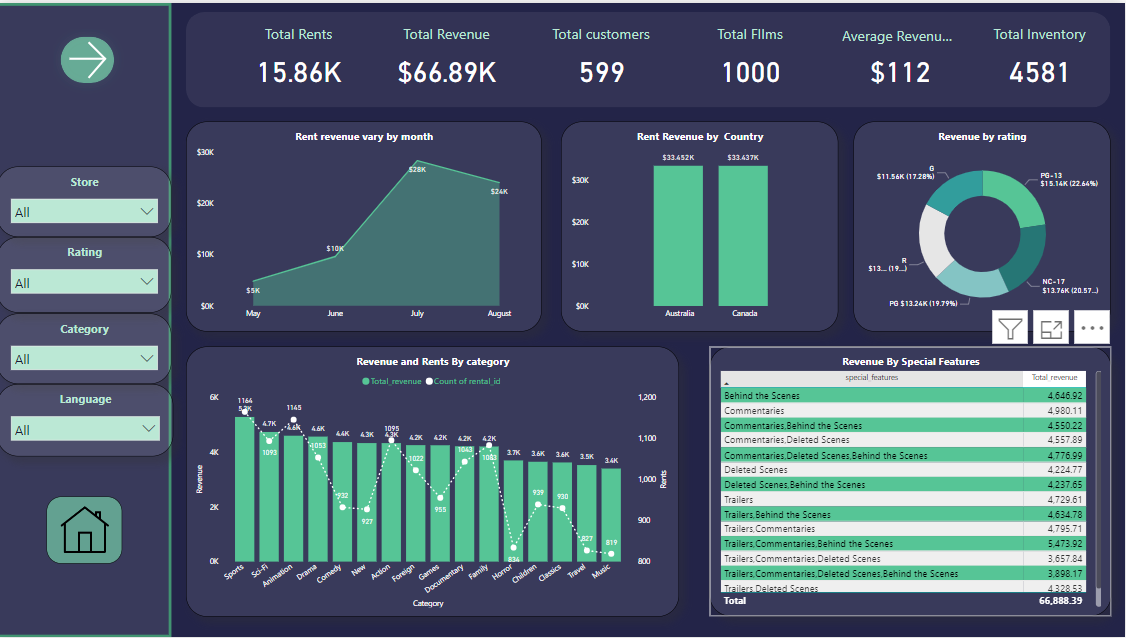

This screenshot's page, from the dashboard's own definition file:
{"tool":"powerbi","page":{"name":"REVENUE ANALYSIS","canvas":[1600,900],"ordinal":1},"visuals":[{"type":"shape","box":[0,0,247.5,900],"z":0},{"type":"areaChart","title":"Rent revenue vary by month","fields":{"Category":["sakila payment.payment_date.Variation.Date Hierarchy.Month"],"Y":["Sum(sakila payment.amount)"]},"box":[268.9,168.9,504.4,297.8],"z":1000},{"type":"shape","box":[268.9,13.3,1311.1,135.6],"z":2000},{"type":"card","title":"Total FIlms","fields":{"Values":["CountNonNull(sakila film.film_id)"]},"box":[966.7,28.9,204.4,100],"z":3000},{"type":"card","title":"Total Rents","fields":{"Values":["Count(sakila rental.rental_id)"]},"box":[326.7,28.9,200,100],"z":4000},{"type":"card","title":"Total Revenue","fields":{"Values":["Sum(sakila payment.amount)"]},"box":[526.7,28.9,220,100],"z":5000},{"type":"card","title":"Total customers","fields":{"Values":["CountNonNull(sakila customer.customer_id)"]},"box":[746.7,28.9,220,100],"z":6000},{"type":"slicer","title":"Store","fields":{"Values":["sakila store.Store Country"]},"box":[0,232.5,247.5,100],"z":7000},{"type":"clusteredColumnChart","title":"Rent Revenue by  Country","fields":{"Y":["Sum(sakila payment.amount)"],"Category":["sakila store.Store Country"]},"box":[800.7,168.9,393.4,298],"z":8000},{"type":"donutChart","title":"Revenue by rating","fields":{"Category":["sakila film.rating"],"Y":["Sum(sakila payment.amount)"]},"box":[1215.6,168.9,364.4,297.8],"z":9000},{"type":"slicer","title":"Rating","fields":{"Values":["sakila film.rating"]},"box":[0,332.5,247.5,107.5],"z":10000},{"type":"slicer","title":"Category","fields":{"Values":["sakila film.Category_name"]},"box":[0,440,247.5,100],"z":11000},{"type":"card","title":"Total Inventory","fields":{"Values":["Count(sakila inventory.inventory_id)"]},"box":[1375.6,28.9,204.4,100],"z":12000},{"type":"lineStackedColumnComboChart","title":"Revenue and Rents By category","fields":{"Category":["sakila film.Category_name"],"Y":["sakila payment.Total_revenue"],"Y2":["CountNonNull(sakila rental.rental_id)"]},"box":[268.2,486.8,699.3,383.4],"z":13000},{"type":"slicer","title":"Language","fields":{"Values":["sakila film.Language"]},"box":[0,540,250,102.5],"z":14000},{"type":"tableEx","title":"Revenue By Special Features","fields":{"Values":["sakila film.special_features","sakila payment.Total_revenue"]},"box":[1010,487.5,570,382.5],"z":15000},{"type":"actionButton","box":[75,32.5,107.5,97.5],"z":16000},{"type":"image","box":[70,700,107.5,95],"z":17000},{"type":"card","title":"Average Revenue Per Customer","fields":{"Values":["sakila payment.Avg_revenue_per_customer"]},"box":[1194,31.8,174.8,97.4],"z":18000}]}

Visuals, with their boxes in screenshot pixels (x1, y1, x2, y2), scaled from the page's 1600x900 canvas onto the 1126x638 screenshot:
shape: bbox=(0, 0, 174, 637)
"Rent revenue vary by month" areaChart: bbox=(189, 120, 544, 331)
shape: bbox=(189, 9, 1112, 106)
"Total FIlms" card: bbox=(680, 20, 824, 91)
"Total Rents" card: bbox=(230, 20, 371, 91)
"Total Revenue" card: bbox=(371, 20, 525, 91)
"Total customers" card: bbox=(525, 20, 680, 91)
"Store" slicer: bbox=(0, 165, 174, 236)
"Rent Revenue by  Country" clusteredColumnChart: bbox=(563, 120, 840, 331)
"Revenue by rating" donutChart: bbox=(855, 120, 1112, 331)
"Rating" slicer: bbox=(0, 236, 174, 312)
"Category" slicer: bbox=(0, 312, 174, 383)
"Total Inventory" card: bbox=(968, 20, 1112, 91)
"Revenue and Rents By category" lineStackedColumnComboChart: bbox=(189, 345, 681, 617)
"Language" slicer: bbox=(0, 383, 176, 455)
"Revenue By Special Features" tableEx: bbox=(711, 346, 1112, 617)
actionButton: bbox=(53, 23, 128, 92)
image: bbox=(49, 496, 125, 564)
"Average Revenue Per Customer" card: bbox=(840, 23, 963, 92)
